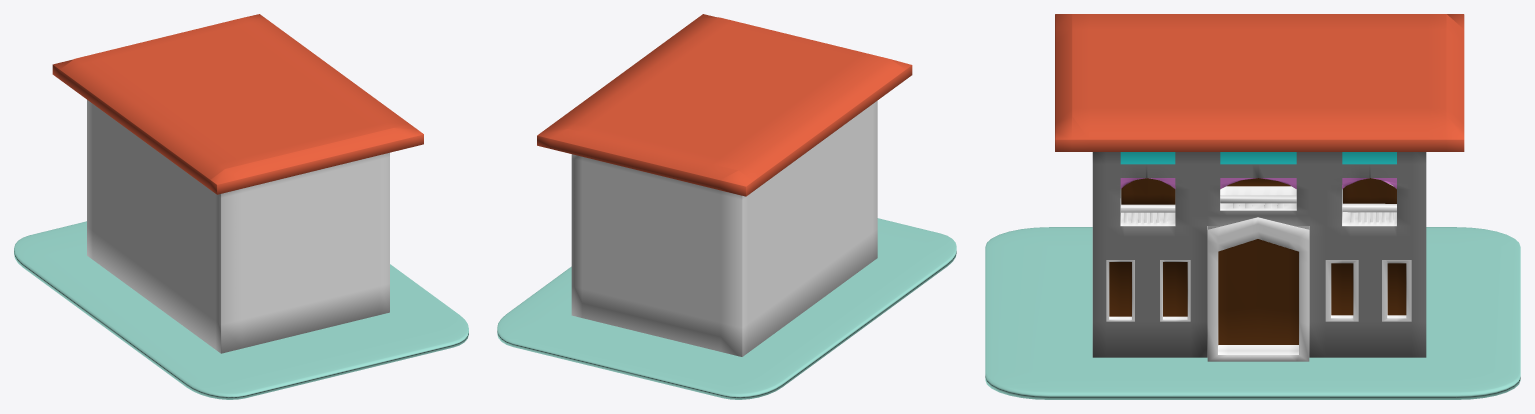
The model's file is ilkmeclis.fbx.
3 views of the same model, side by side, from view 1: azimuth 30°, elevation 25°; view 2: azimuth 150°, elevation 25°; view 3: azimuth 270°, elevation 25° (orthographic). The views are drawn at different scales.
Parts seen in each view (by area): view 1: Cube, Cube.001; view 2: Cube, Cube.001; view 3: Cube, Cube.001.
Part boxes in pixels (x1,y1,x2,y2): Cube: (52, 14, 423, 353); Cube.001: (14, 221, 468, 399); Cube: (537, 14, 912, 356); Cube.001: (497, 218, 956, 399); Cube: (1055, 14, 1464, 361); Cube.001: (985, 227, 1520, 399).
Size of the model in its own units: 1161 by 816 by 1583.
